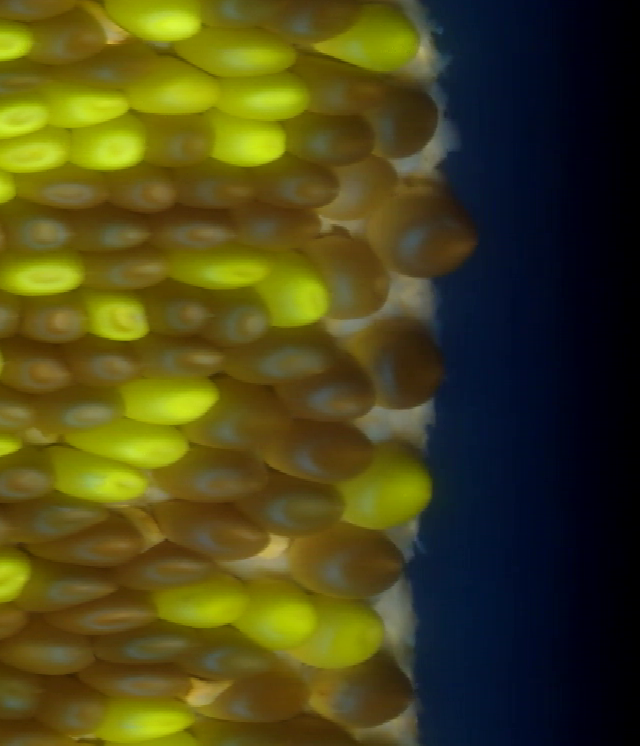fluorescent: (328, 443, 441, 537), (27, 450, 155, 507), (183, 27, 306, 83), (302, 593, 393, 667), (109, 372, 227, 429), (332, 2, 423, 75), (258, 246, 334, 333), (218, 61, 320, 125), (65, 423, 199, 470), (169, 233, 270, 293), (240, 577, 319, 653), (128, 56, 222, 118), (65, 109, 151, 176), (153, 577, 261, 630), (104, 2, 218, 49), (44, 76, 134, 132), (98, 695, 203, 743), (0, 248, 91, 301), (81, 292, 166, 343), (211, 113, 291, 167), (0, 128, 76, 175), (0, 543, 55, 607), (0, 91, 54, 143), (0, 14, 38, 69)
nonfluorescent: (370, 183, 490, 281), (287, 522, 417, 602), (154, 488, 282, 565), (351, 322, 455, 412), (228, 317, 344, 392), (317, 655, 423, 737), (301, 233, 398, 318), (191, 375, 288, 449), (274, 418, 385, 481), (298, 45, 381, 123), (192, 667, 314, 719), (250, 478, 353, 538), (155, 451, 278, 501), (112, 541, 220, 596), (53, 591, 162, 644), (138, 280, 225, 346), (175, 157, 272, 216), (13, 557, 117, 612), (16, 165, 120, 219), (93, 619, 201, 671), (38, 523, 155, 570), (265, 4, 395, 46), (0, 628, 111, 677), (67, 202, 165, 256), (295, 366, 386, 424), (204, 286, 282, 353), (285, 112, 385, 164), (375, 77, 438, 159), (135, 107, 224, 165), (234, 203, 337, 251), (1, 337, 78, 401), (256, 159, 350, 211), (16, 292, 98, 351), (153, 208, 244, 260), (82, 659, 193, 701), (39, 387, 132, 437), (12, 493, 112, 539), (188, 630, 278, 681), (141, 337, 227, 390), (30, 9, 109, 66), (64, 338, 138, 398), (9, 203, 85, 261), (329, 162, 407, 218), (111, 161, 187, 217), (76, 43, 164, 90), (38, 680, 113, 732), (87, 254, 175, 292), (0, 450, 65, 501), (0, 56, 61, 103), (0, 669, 55, 719), (0, 380, 43, 435), (0, 582, 37, 641), (0, 295, 37, 346)
